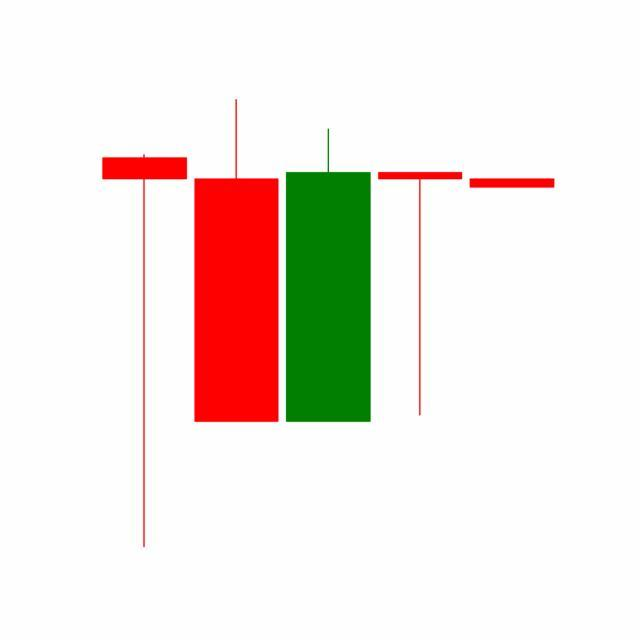Hanging Man: (374, 170, 468, 419)
